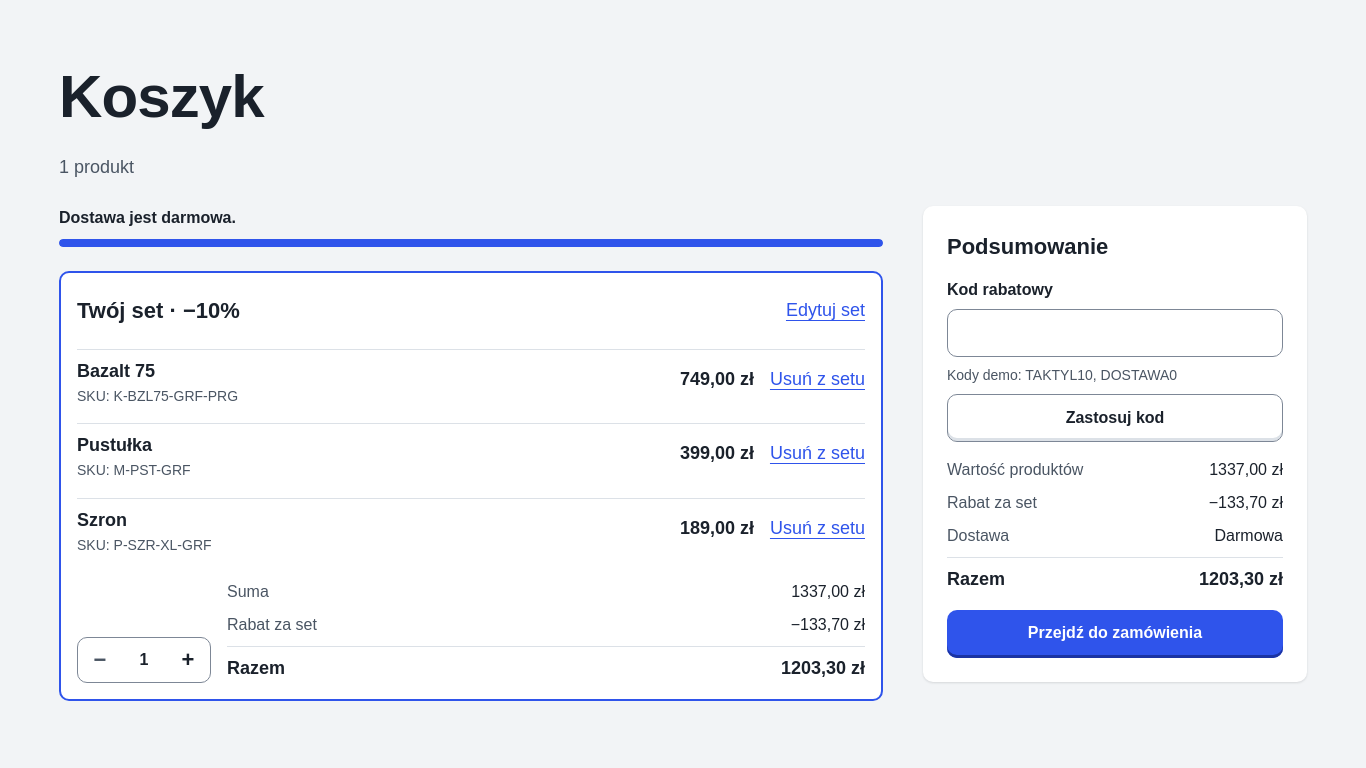
Test: usuwanie z Cofnij 5 s (F-151, F-154, S15) bez confirm() › S15: usuniecie klawiatury z grupy rozbija set, komunikat, Cofnij przywraca grupe i rabat
What coordinates should you click on to do the following:
click the button with aria-label "Usuń z setu: Bazalt 75"
I would click on:
 (818, 380)
Its box is [770,358,865,402].
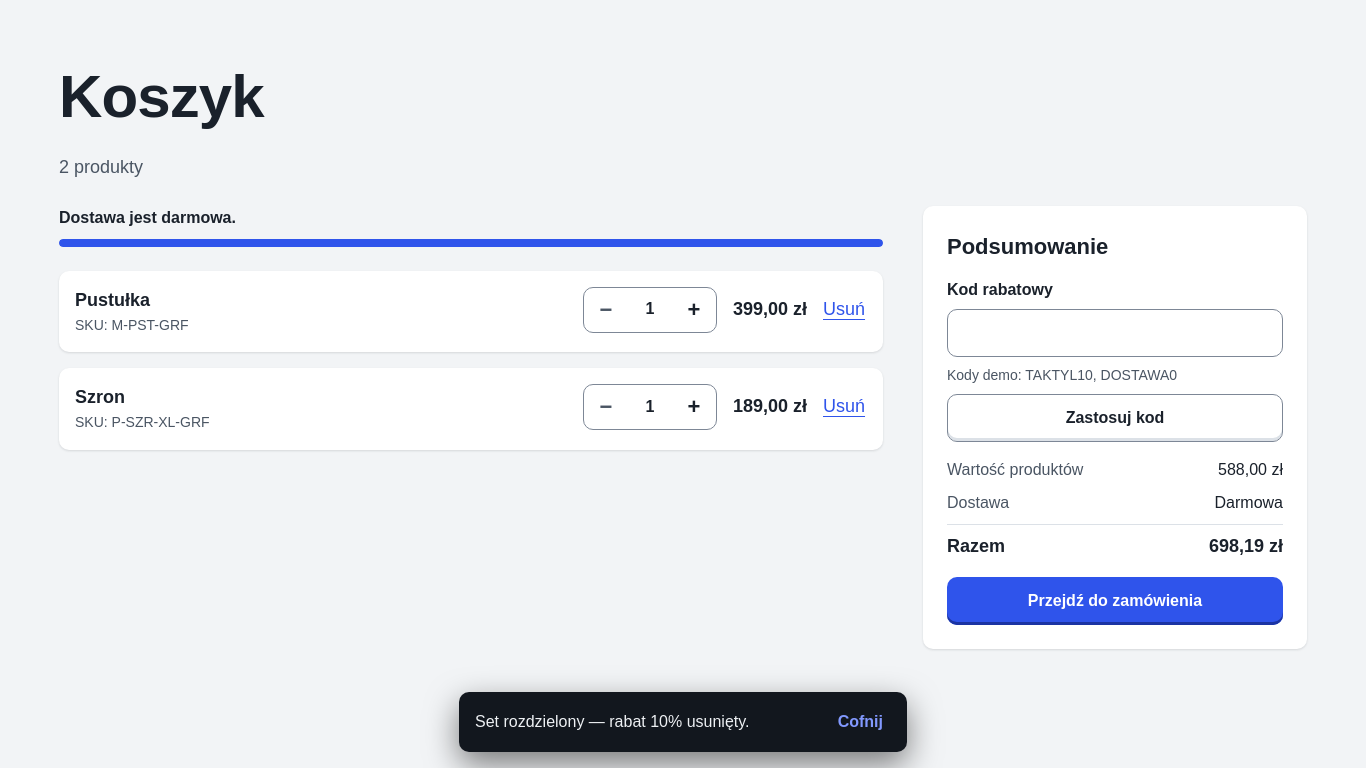
Now the text "Set rozdzielony — rabat 10% usunięty." is shown, box [475,710,750,734]
Now the heading "Twój set" is gone
Now the text "Rabat za set" is gone
What coordinates should you click on to do the following:
click the button "Cofnij"
I would click on:
 (860, 722)
Its box is [830,700,891,744].
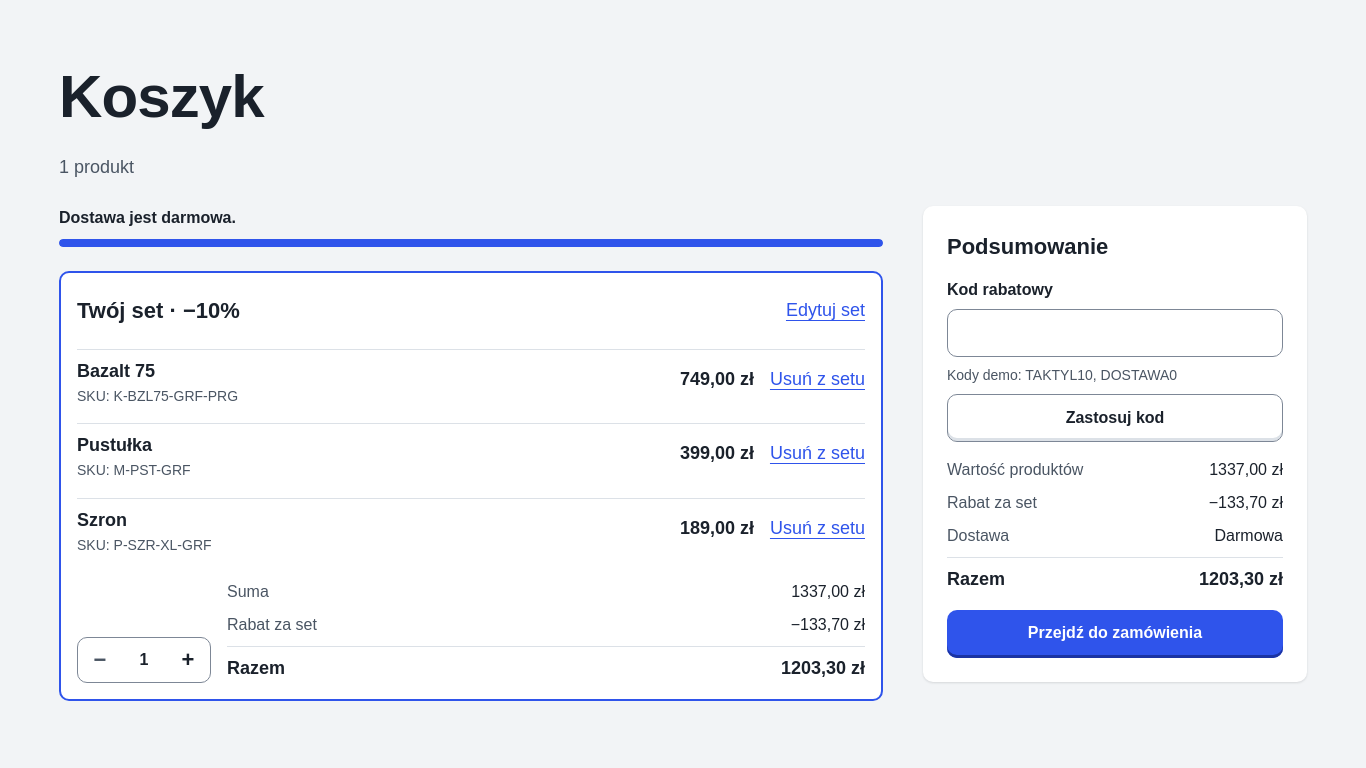
Expected: the element with test id "koszyk-razem" reads "1203,30 zł", [1199,569,1283,589]
Now the heading "Twój set · −10%" is shown, box [77,294,240,328]
